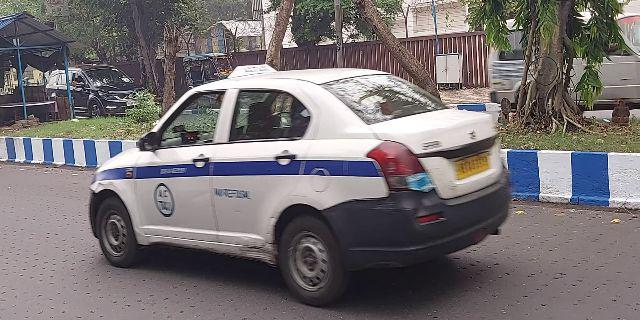Car: (84, 61, 520, 300)
